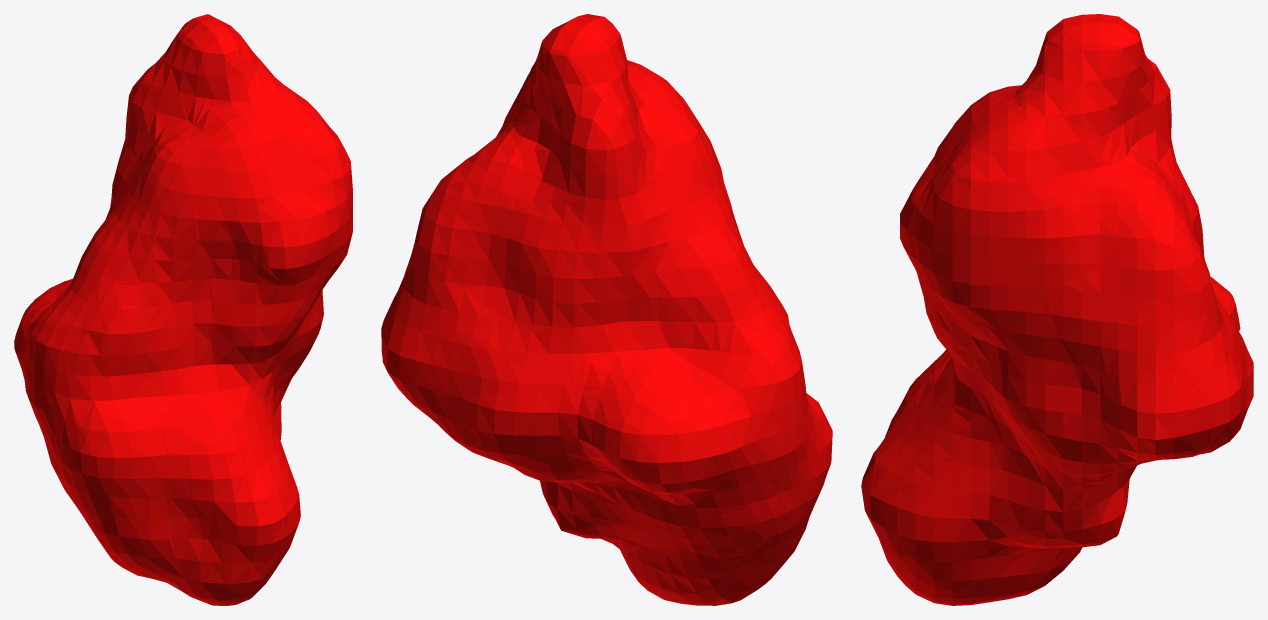
The model's file is bdcR_coarse.dae.
The picture shows the model from 3 angles, left to right: view 1: azimuth 30°, elevation 25°; view 2: azimuth 150°, elevation 25°; view 3: azimuth 270°, elevation 25°; orthographic projection. The views are drawn at different scales.
Visible parts, largest first — view 1: bdcR; view 2: bdcR; view 3: bdcR.
Boxes of the visible parts, x1,y1,x2,y2 form: bdcR: (14,14,352,605); bdcR: (381,14,832,605); bdcR: (861,14,1253,605).
Size of the model in its own units: 43.17 by 66.32 by 38.62.
